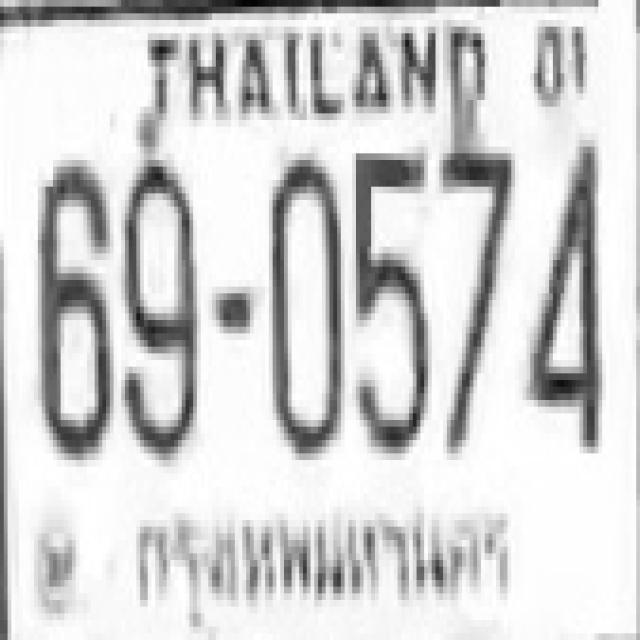0: (269, 154, 341, 454)
4: (523, 133, 598, 447)
5: (352, 146, 428, 446)
6: (34, 154, 110, 454)
7: (439, 137, 512, 450)
9: (121, 154, 197, 454)
Bangkok: (128, 492, 516, 633)
